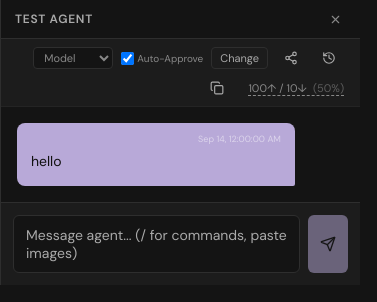
Test: AgentPanel context-first token meter › truncates fractional compaction thresholds to match the engine
Click the text "100↑ / 10↓(50%)".
click(296, 88)  # box [248,81,344,96]
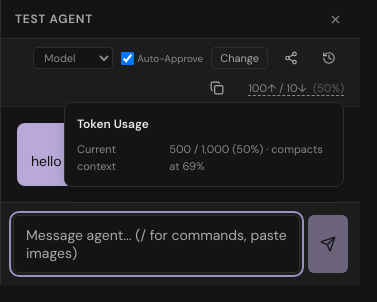
Check: the text "500 / 1,000 (50%) · compacts at 69%" is shown, box [169,141,331,174]
